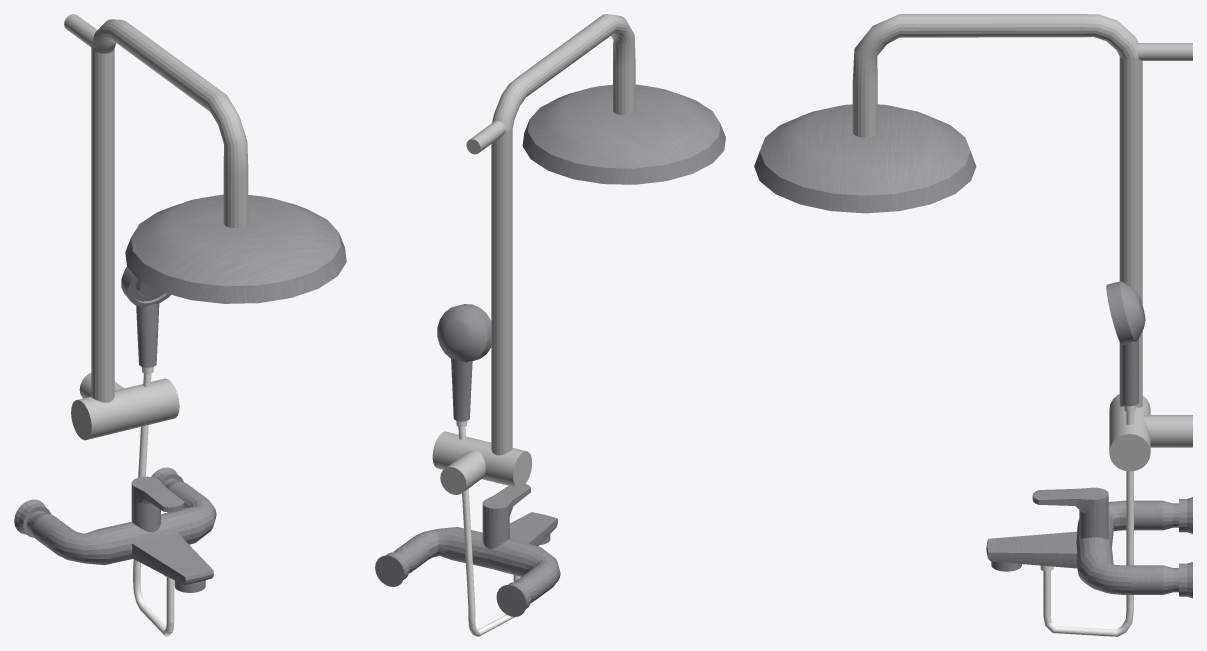
Rendered from ShowerTap.fbx.
3 views of the same model, side by side, from view 1: azimuth 30°, elevation 25°; view 2: azimuth 150°, elevation 25°; view 3: azimuth 270°, elevation 25° (orthographic). The views are drawn at different scales.
Visible parts, largest first — view 1: pCylinder32, pCylinder38, pCylinder33, pCylinder34, pCylinder39, pCylinder35, pCylinder42; view 2: pCylinder32, pCylinder38, pCylinder33, pCylinder34, pCylinder35, pCylinder39, pCylinder41, pCylinder42; view 3: pCylinder32, pCylinder38, pCylinder34, pCylinder33, pCylinder39, pCylinder35, pCylinder41, pCylinder42.
Boxes of the visible parts, box(x1,y1,x2,y2) form: pCylinder32: box(91, 19, 346, 402); pCylinder38: box(14, 467, 216, 585); pCylinder33: box(71, 378, 179, 440); pCylinder34: box(133, 303, 174, 636); pCylinder39: box(131, 476, 184, 532); pCylinder35: box(121, 267, 170, 307); pCylinder42: box(64, 14, 97, 46); pCylinder32: box(491, 14, 725, 455); pCylinder38: box(375, 512, 560, 616); pCylinder33: box(432, 431, 532, 488); pCylinder34: box(451, 359, 520, 636); pCylinder35: box(437, 304, 491, 362); pCylinder39: box(482, 484, 530, 549); pCylinder41: box(440, 450, 485, 494); pCylinder42: box(466, 121, 505, 154); pCylinder32: box(754, 14, 1142, 407); pCylinder38: box(986, 497, 1192, 598); pCylinder34: box(1040, 338, 1138, 636); pCylinder33: box(1109, 394, 1150, 471); pCylinder39: box(1032, 487, 1108, 539); pCylinder35: box(1106, 281, 1145, 345); pCylinder41: box(1142, 415, 1192, 447); pCylinder42: box(1137, 43, 1192, 60).
Bounding box in the file's own units: 0.631 × 1.79 × 1.18.
